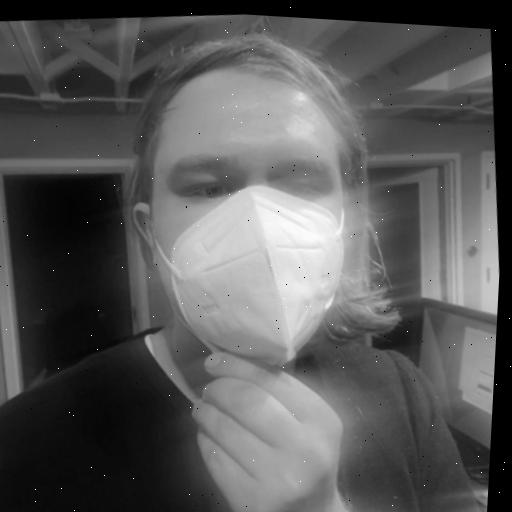mask: (85, 11, 428, 385)
